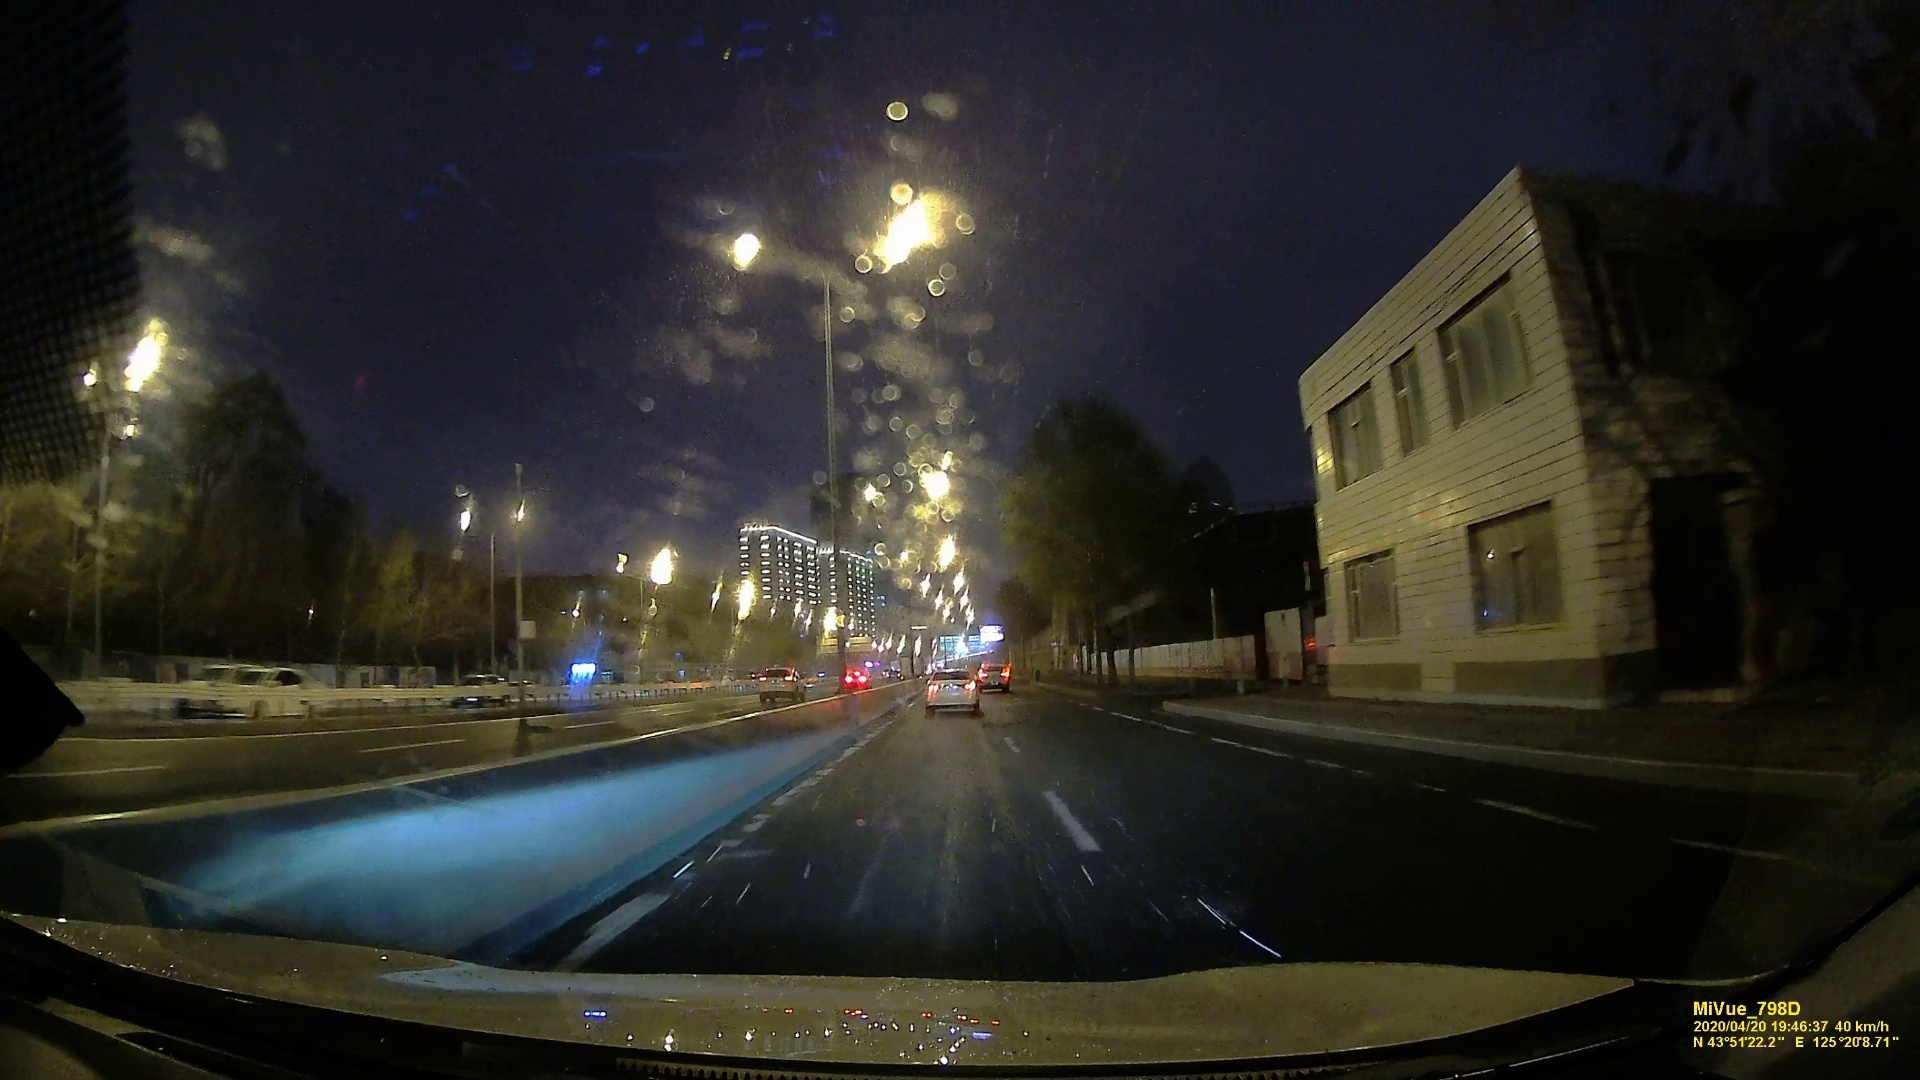vehicle: (924, 669, 980, 713), (758, 667, 804, 700), (976, 662, 1010, 690), (844, 669, 872, 688)
